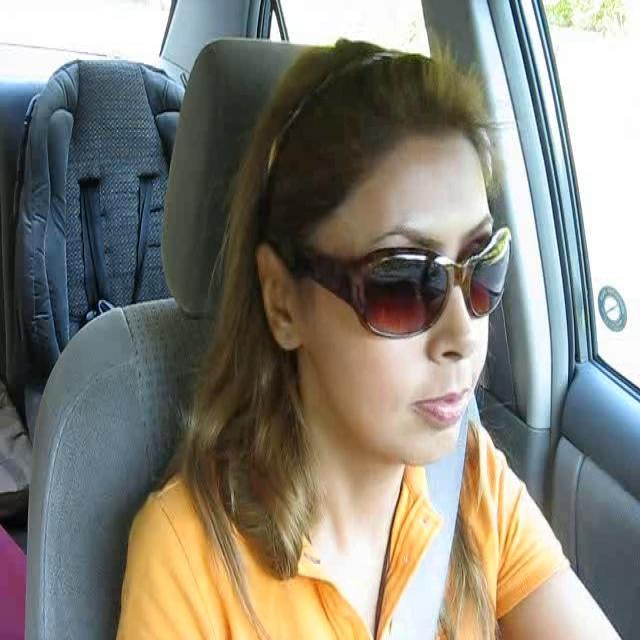close: (416, 386, 473, 426)
